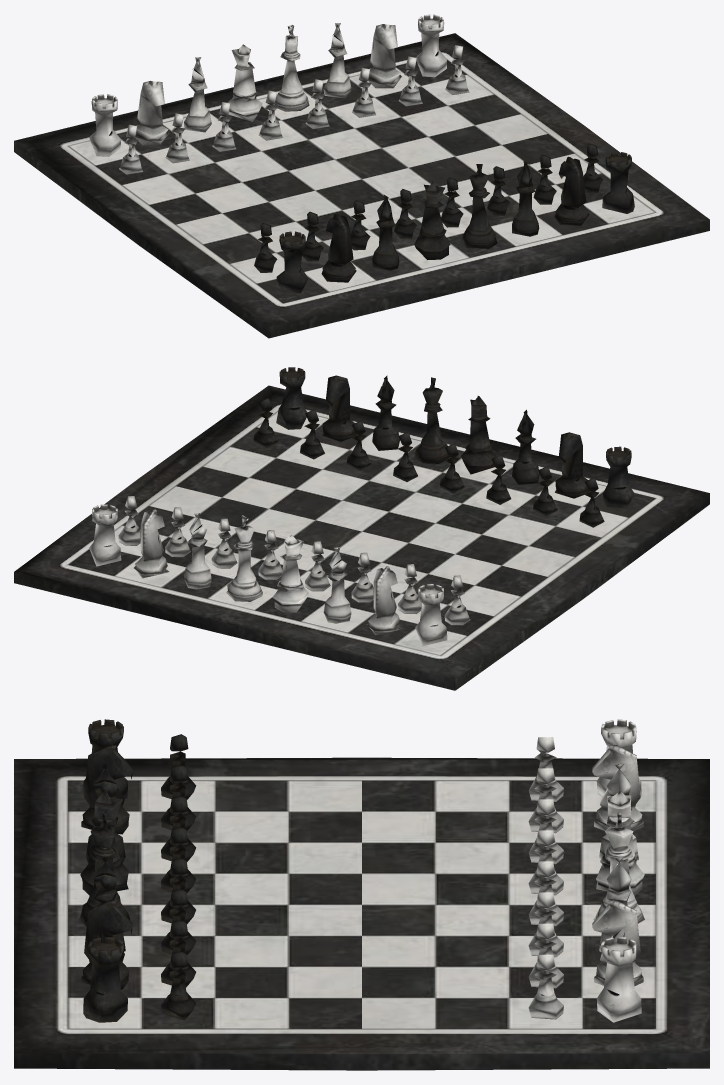
File: chess_set.glb
3 views of the same model, one above another, from view 1: azimuth 30°, elevation 25°; view 2: azimuth 150°, elevation 25°; view 3: azimuth 270°, elevation 25° (orthographic). The views are drawn at different scales.
Parts seen in each view (by area): view 1: board, piece_queen_black, piece_knight_black_01, piece_knight_black_02, piece_knight_white_02, piece_knight_white_01, piece_queen_white, piece_king_black, piece_king_white, piece_rook_black_02, piece_rook_white_01, piece_rook_white_02 (+21 smaller); view 2: board, piece_queen_white, piece_queen_black, piece_king_white, piece_knight_black_01, piece_knight_black_02, piece_knight_white_01, piece_knight_white_02, piece_king_black, piece_rook_black_01, piece_rook_white_01, piece_rook_white_02 (+21 smaller); view 3: board, piece_rook_black_02, piece_rook_white_01, piece_knight_black_01, piece_knight_white_02, piece_knight_white_01, piece_knight_black_02, piece_queen_black, piece_queen_white, piece_king_black, piece_pawn_white_01, piece_king_white (+21 smaller).
Part boxes in pixels (left/top/right/bottom): board: left=14, top=33, right=709, bottom=338; piece_queen_black: left=414, top=181, right=450, bottom=259; piece_knight_black_01: left=321, top=213, right=356, bottom=282; piece_knight_black_02: left=554, top=156, right=589, bottom=225; piece_knight_white_02: left=135, top=80, right=168, bottom=145; piece_knight_white_01: left=368, top=24, right=401, bottom=88; piece_queen_white: left=227, top=44, right=262, bottom=121; piece_king_black: left=461, top=164, right=497, bottom=248; piece_king_white: left=274, top=25, right=309, bottom=111; piece_rook_black_02: left=602, top=152, right=634, bottom=213; piece_rook_white_01: left=416, top=14, right=446, bottom=77; piece_rook_white_02: left=89, top=94, right=120, bottom=156; board: left=14, top=385, right=709, bottom=690; piece_queen_white: left=273, top=535, right=308, bottom=612; piece_queen_black: left=461, top=396, right=496, bottom=474; piece_king_white: left=226, top=515, right=262, bottom=601; piece_knight_black_01: left=555, top=432, right=589, bottom=498; piece_knight_black_02: left=322, top=375, right=356, bottom=441; piece_knight_white_01: left=134, top=509, right=169, bottom=578; piece_knight_white_02: left=366, top=566, right=401, bottom=634; piece_king_black: left=414, top=377, right=450, bottom=463; piece_rook_black_01: left=603, top=446, right=634, bottom=508; piece_rook_white_01: left=89, top=504, right=121, bottom=566; piece_rook_white_02: left=415, top=584, right=447, bottom=645; board: left=14, top=757, right=709, bottom=1070; piece_rook_black_02: left=83, top=937, right=127, bottom=1022; piece_rook_white_01: left=596, top=937, right=641, bottom=1022; piece_knight_black_01: left=81, top=744, right=132, bottom=834; piece_knight_white_02: left=592, top=744, right=643, bottom=831; piece_knight_white_01: left=592, top=900, right=643, bottom=986; piece_knight_black_02: left=81, top=900, right=132, bottom=989; piece_queen_black: left=80, top=788, right=128, bottom=895; piece_queen_white: left=596, top=791, right=644, bottom=895; piece_king_black: left=79, top=811, right=130, bottom=926; piece_pawn_white_01: left=528, top=954, right=563, bottom=1019; piece_king_white: left=593, top=812, right=644, bottom=923.
Size of the model in its own units: 0.5532 by 0.109 by 0.5482.
3 materials, 3 textured.
